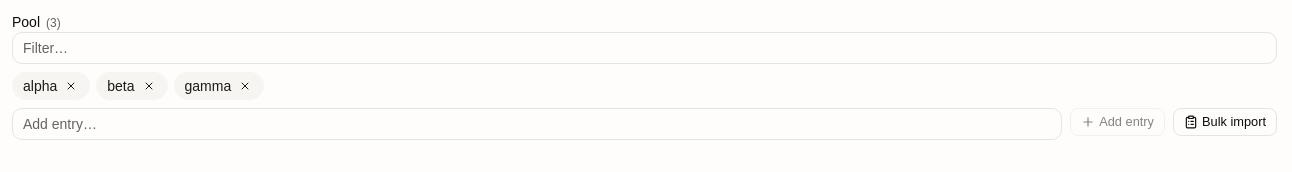
Test: TagListEditor › search › filters visible chips to those matching the query
Step 1. Type "mm" into the search field named "Filter pool entries" → (644, 48), box [12,32,1277,64]
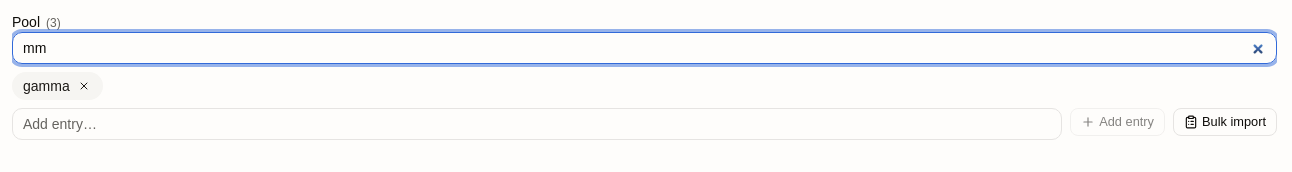
Expected: the button "gamma" is shown, [23,76,70,96]
Expected: the button "alpha" is gone
Expected: the button "beta" is gone
